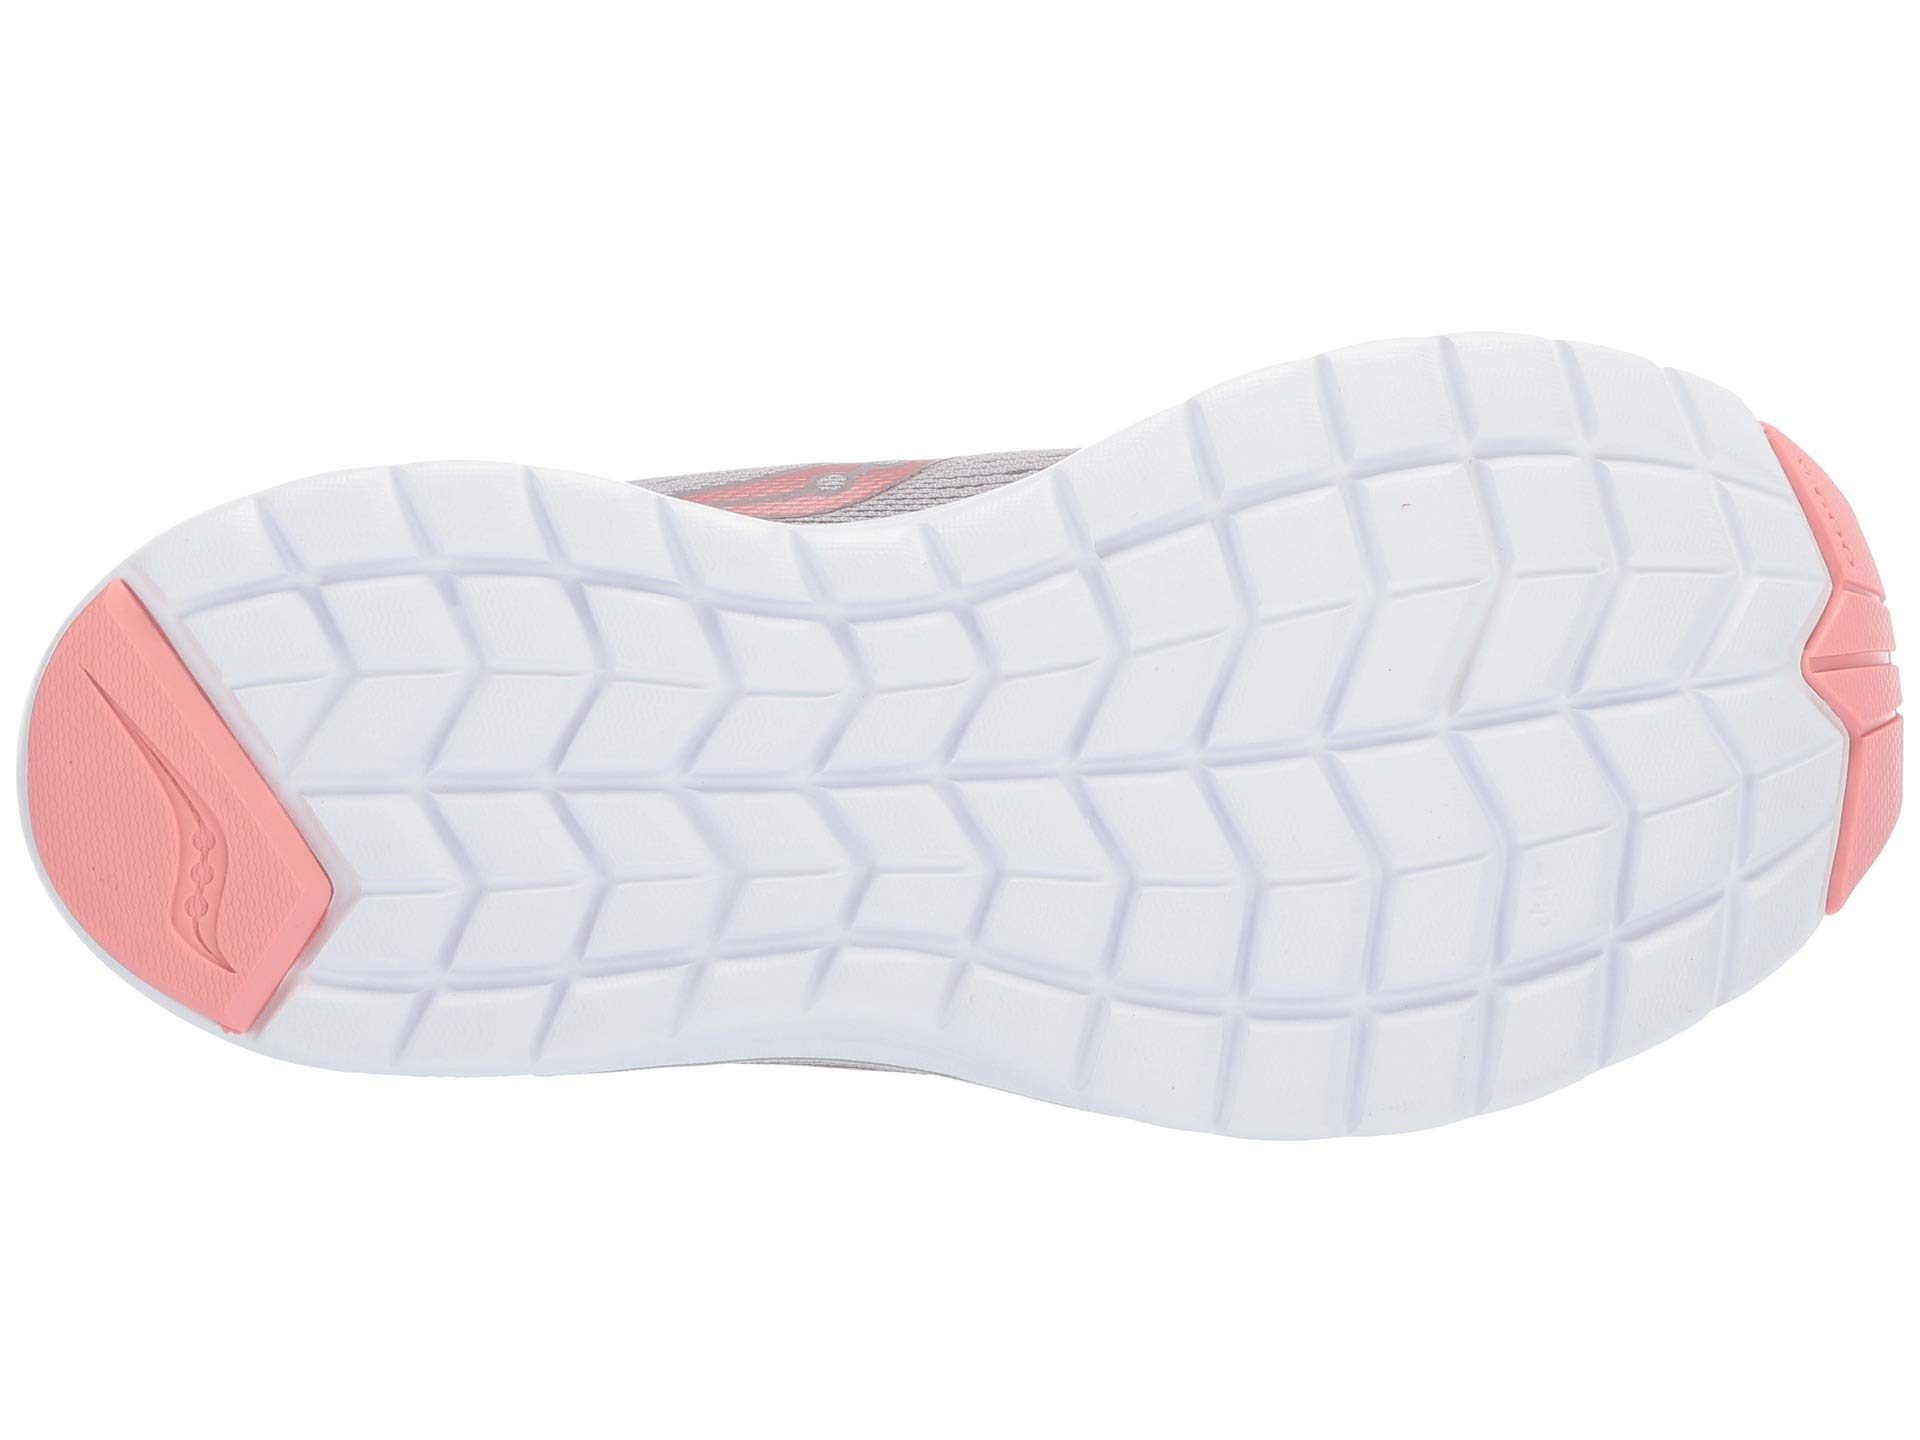quad: (1305, 422, 1693, 815), (812, 732, 1138, 1026), (166, 563, 479, 823)
triangle: (166, 563, 479, 823)
